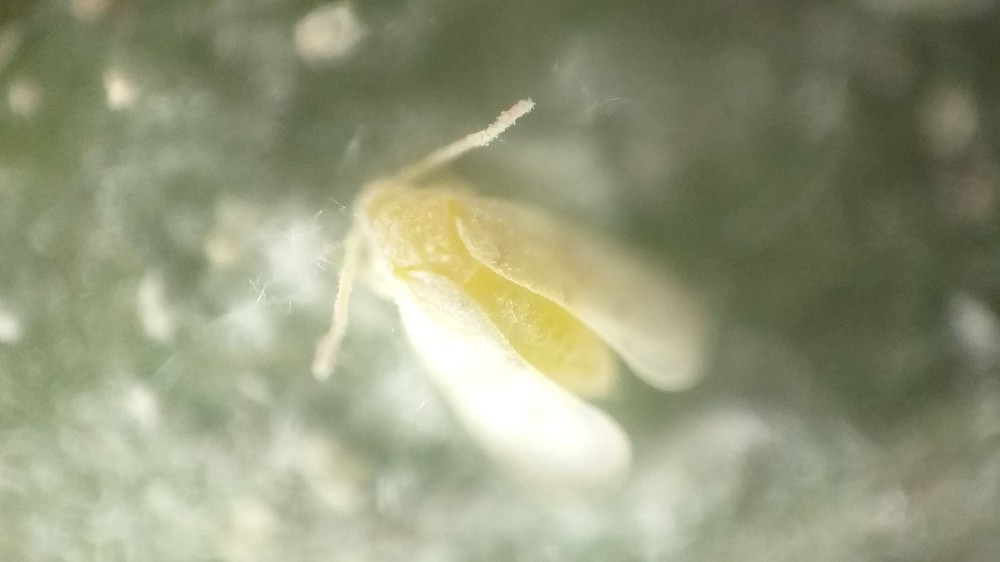Mosca Blanca: (285, 91, 734, 525)
